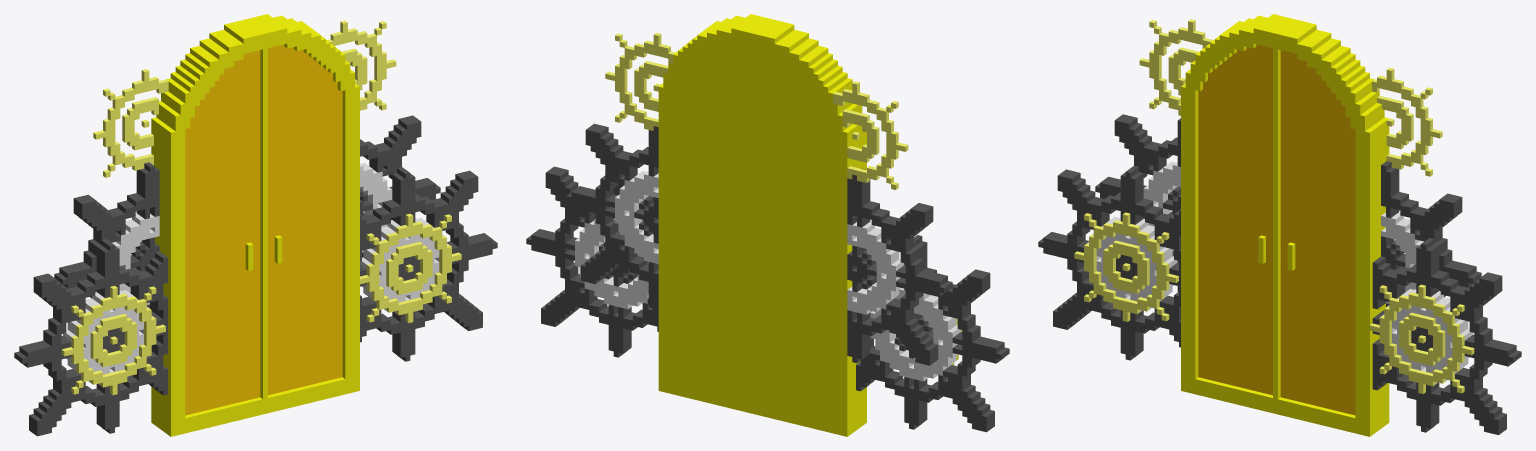
File: top_ipgu.obj
3 renders of one model, left to right at view 1: azimuth 30°, elevation 25°; view 2: azimuth 150°, elevation 25°; view 3: azimuth 330°, elevation 25°, orthographic.
Visible parts, largest first — view 1: top_ipgu; view 2: top_ipgu; view 3: top_ipgu.
Part boxes in pixels (box(x1,y1,x2,y2)): top_ipgu: box(14, 14, 497, 436); top_ipgu: box(526, 14, 1009, 436); top_ipgu: box(1038, 14, 1521, 436).
Bounding box in the file's own units: 98 × 75 × 7.
Materials: 1 (1 with a texture image).
